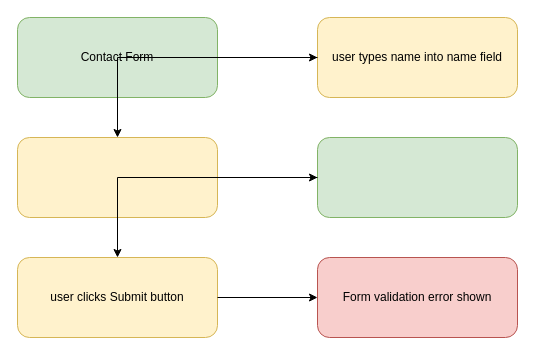
Some shapes in this 535 by 355 pixel diagram are drawn without their labels. The shapes that lost their labels are listed below. From the top down, each one's centre as x and y in pixels, then its label:
the point at 117,177: user types email into email field
the point at 417,177: Filled Form
